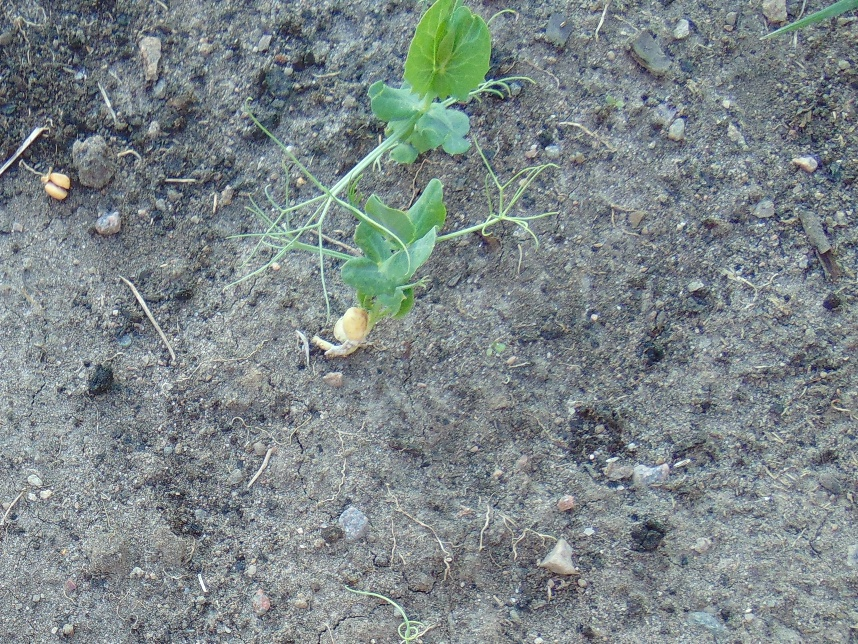crop: (260, 138, 548, 348), (365, 1, 510, 171)
